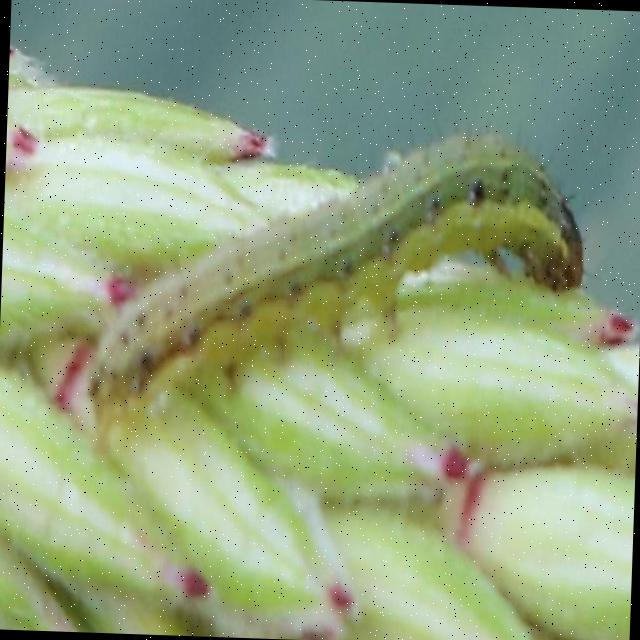worm: (84, 115, 590, 435)
